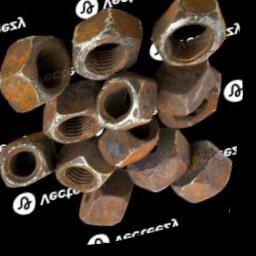Corroded-Nut: (1, 0, 237, 228)
